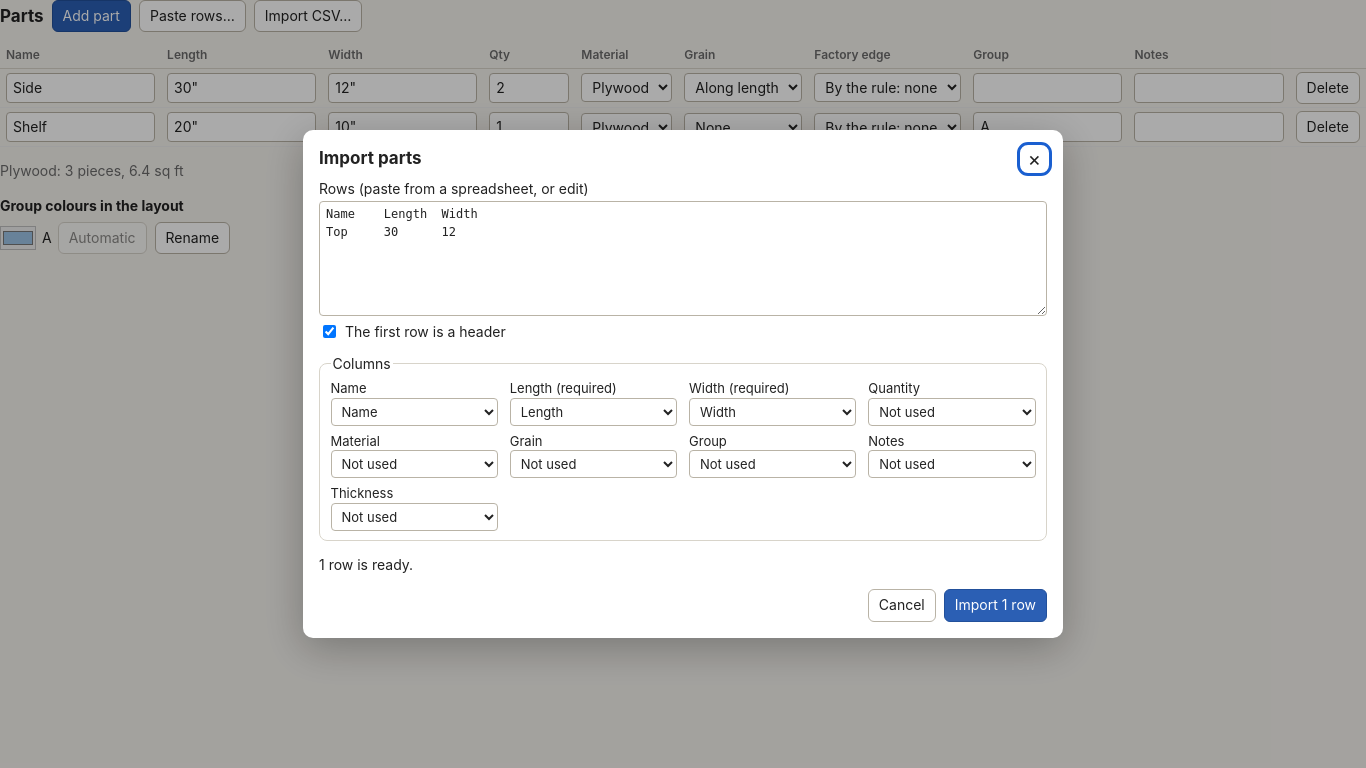
it: PartsTab › opens the import dialog when rows from a spreadsheet are pasted
Click the button "Import 1 row" at (995, 605), box [944,589,1047,622]
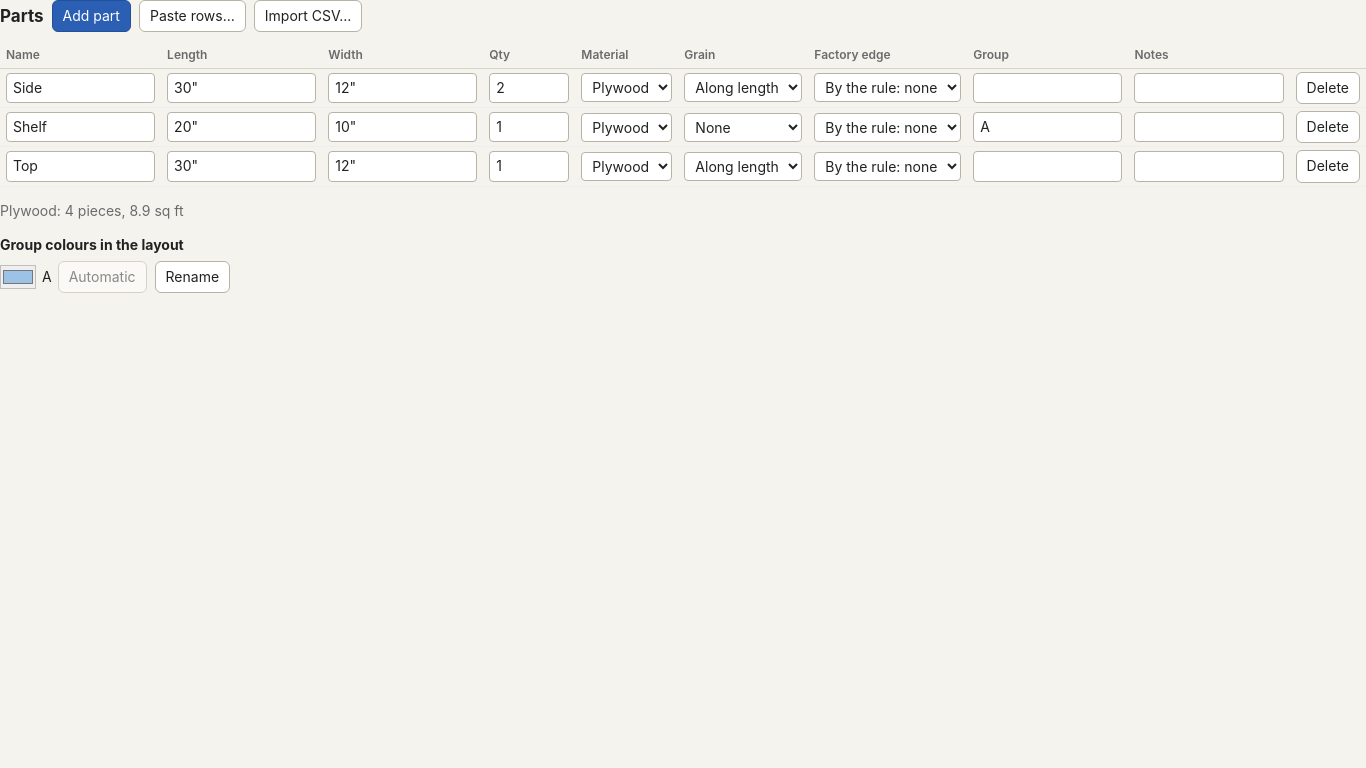
Result: the dialog is gone
